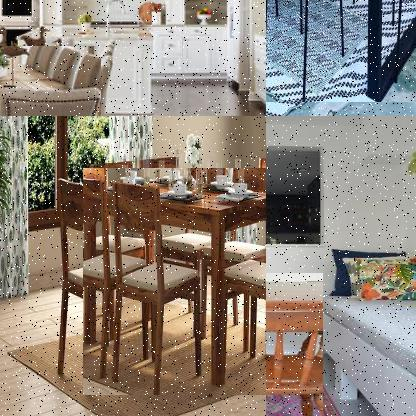table: (81, 168, 265, 397), (266, 0, 415, 104), (266, 273, 324, 415), (0, 46, 102, 115)
